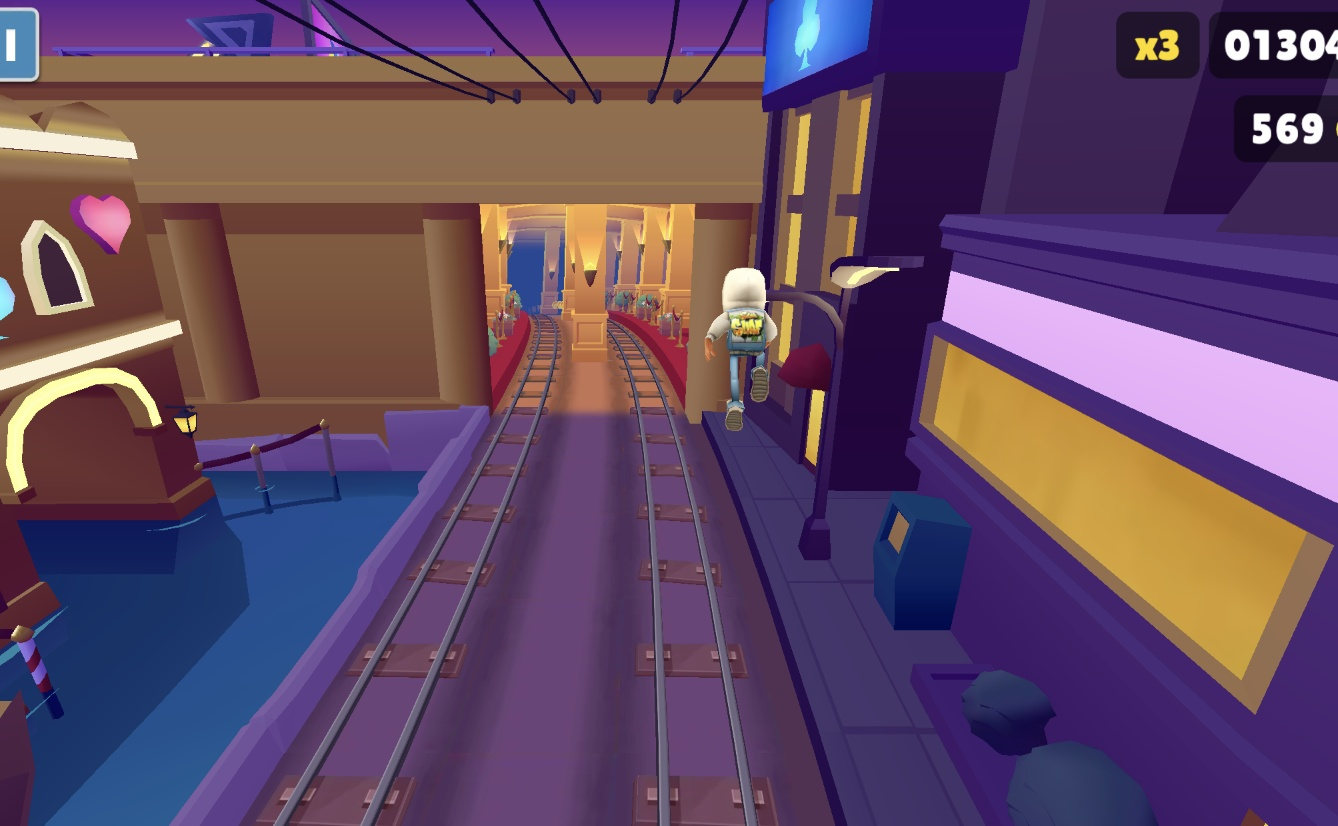pillar: (562, 205, 612, 359)
